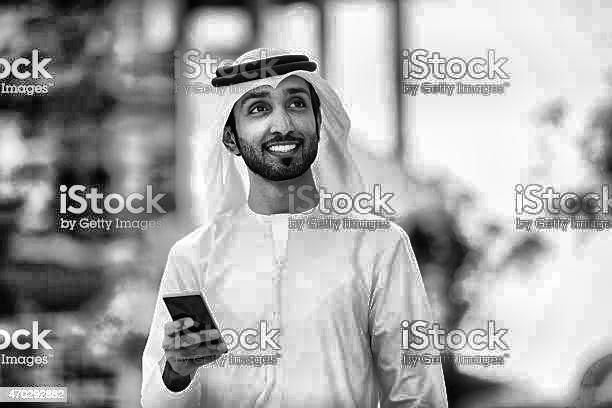happy: (208, 70, 350, 208)
